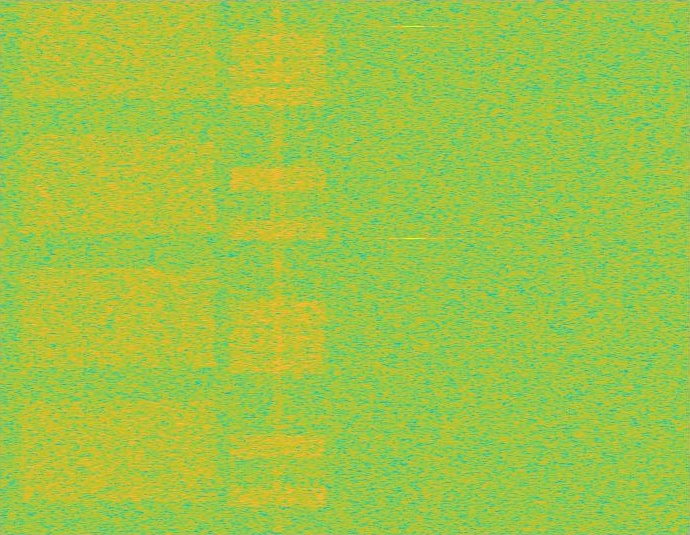5G: (15, 0, 222, 534)
DSSS: (271, 0, 285, 534)
LTE: (226, 0, 330, 534)
Radar: (407, 0, 421, 534)
